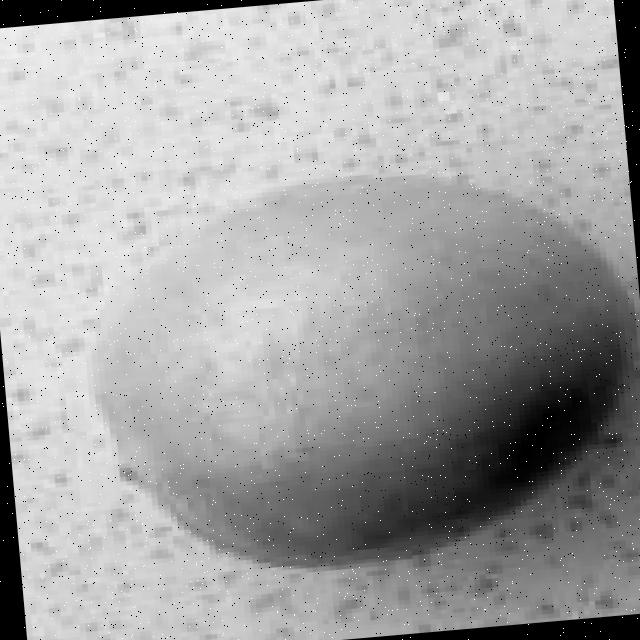Good_Lime-10-21-days: (84, 165, 640, 571)
